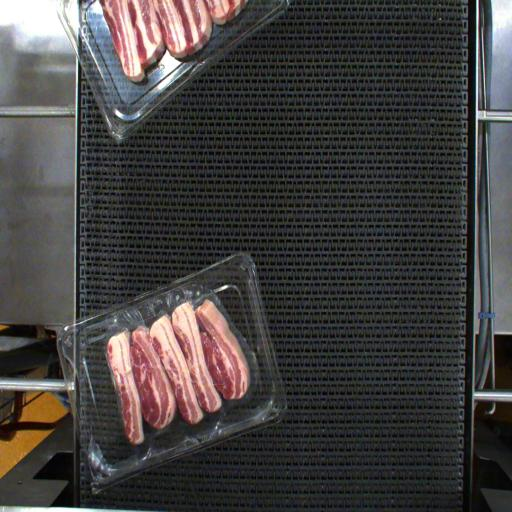unsealed: (94, 297, 280, 442)
